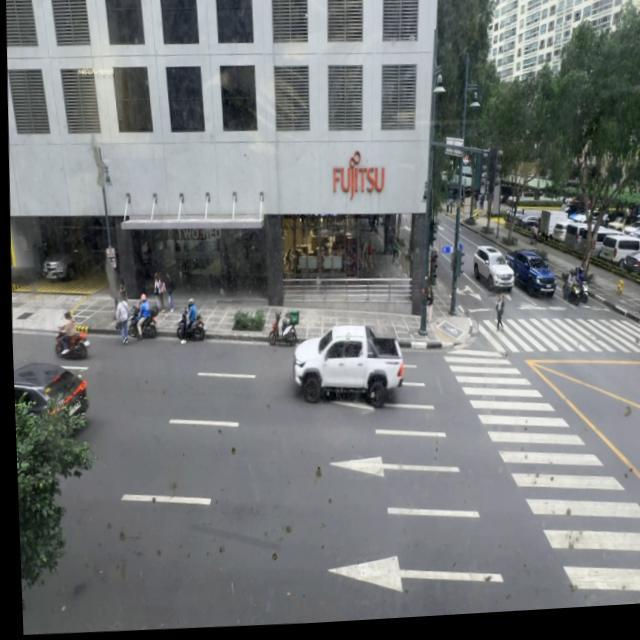jaywalking: (114, 294, 131, 344)
